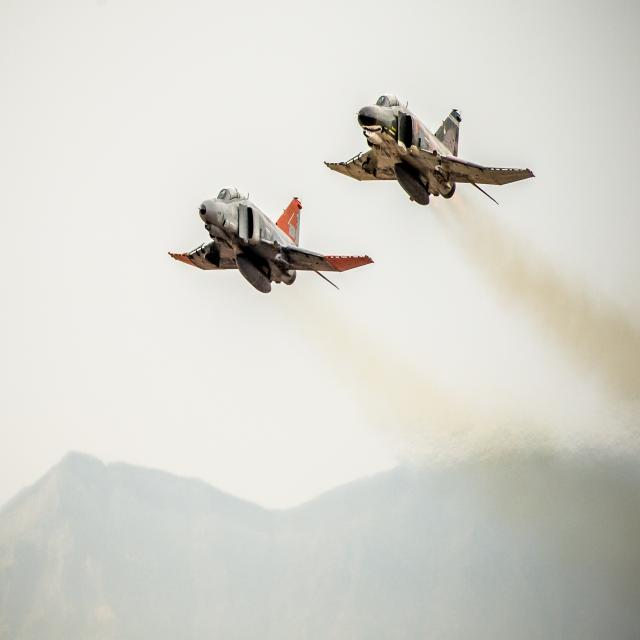MIL_Plane: (324, 93, 536, 206), (168, 186, 374, 293)
